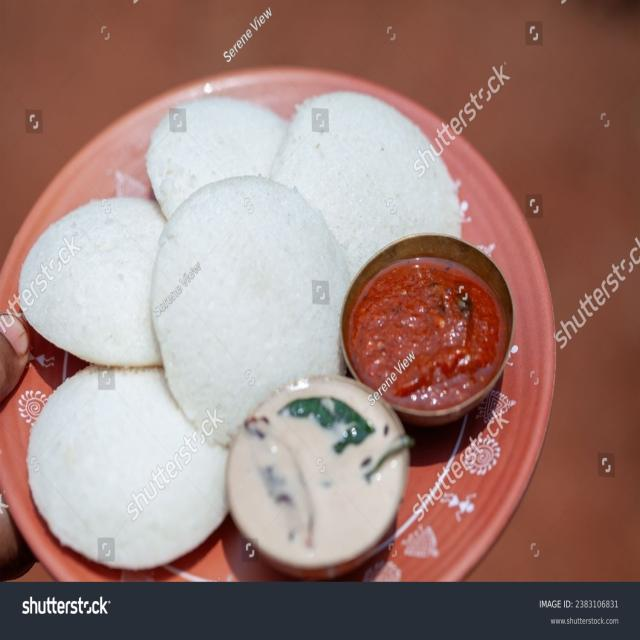IDLI: (151, 177, 351, 445), (26, 366, 227, 569), (271, 91, 468, 281), (19, 197, 165, 367), (146, 98, 286, 220)
